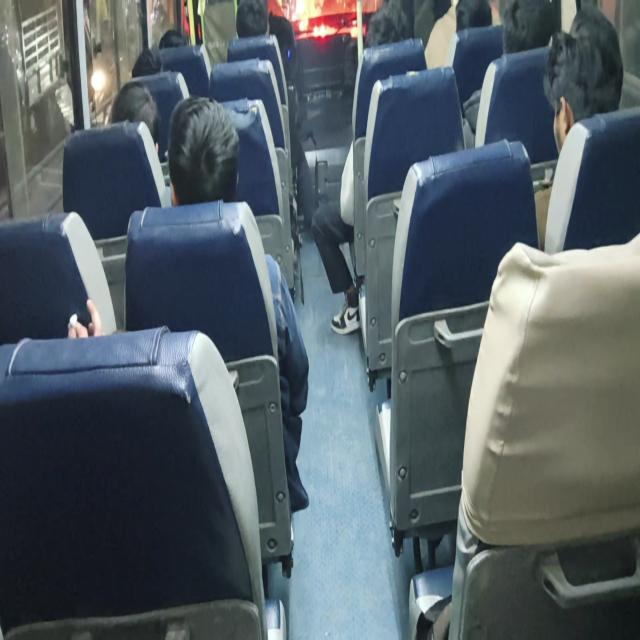person: (534, 41, 612, 150), (186, 126, 246, 212), (486, 11, 548, 71), (116, 91, 169, 153), (371, 3, 414, 68), (224, 0, 276, 41), (148, 18, 196, 58), (459, 1, 485, 43), (140, 58, 177, 83)
